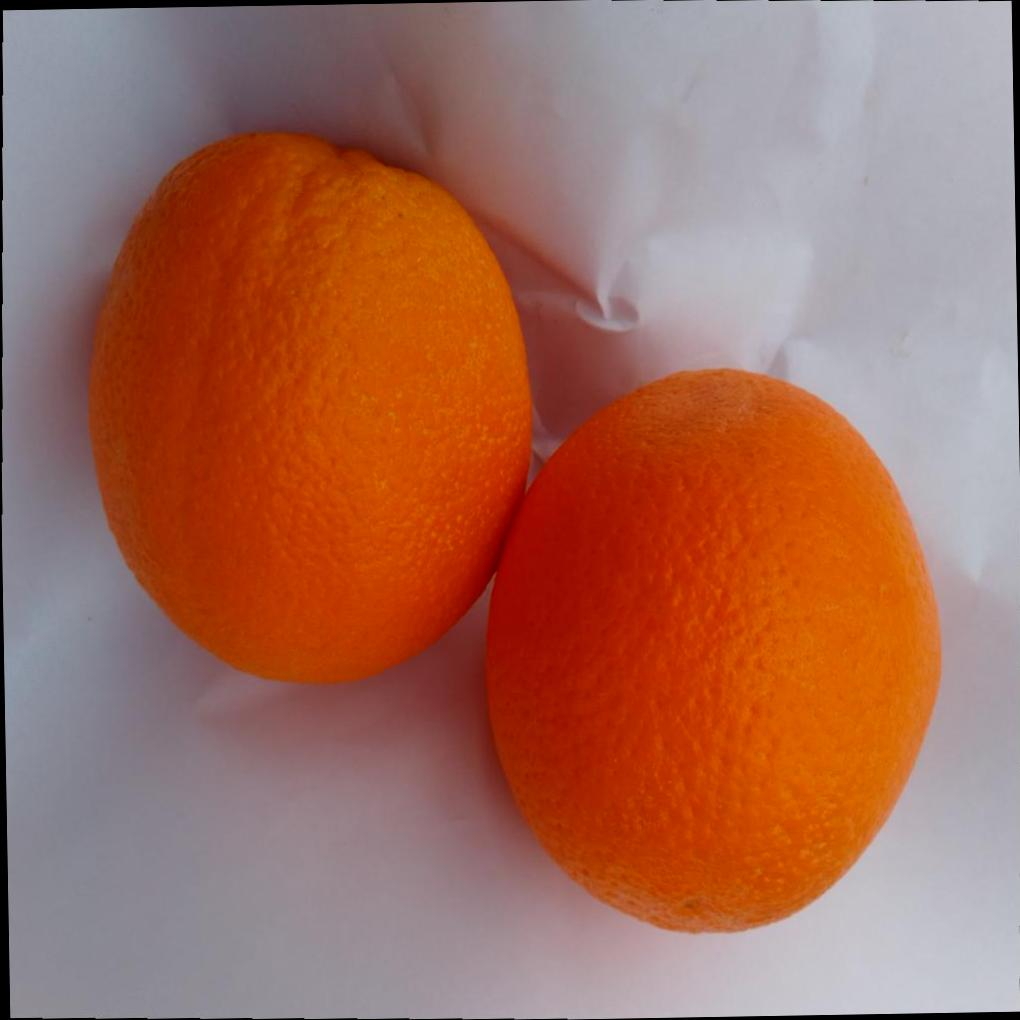FreshGuava: (84, 125, 943, 931)
